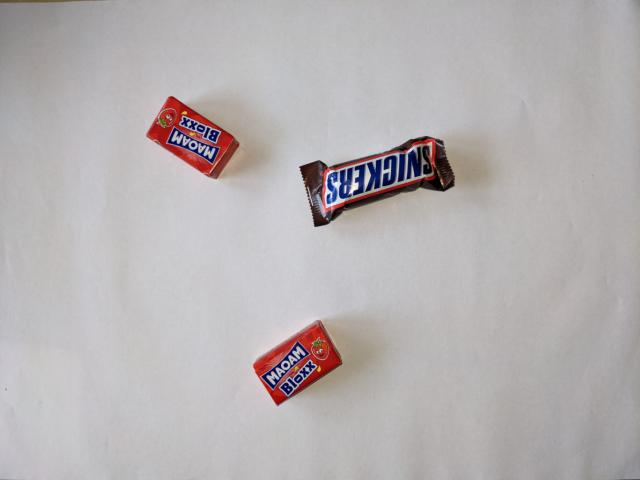MAOAM: (143, 92, 243, 181), (250, 318, 346, 409)
Snickers: (297, 133, 457, 229)
